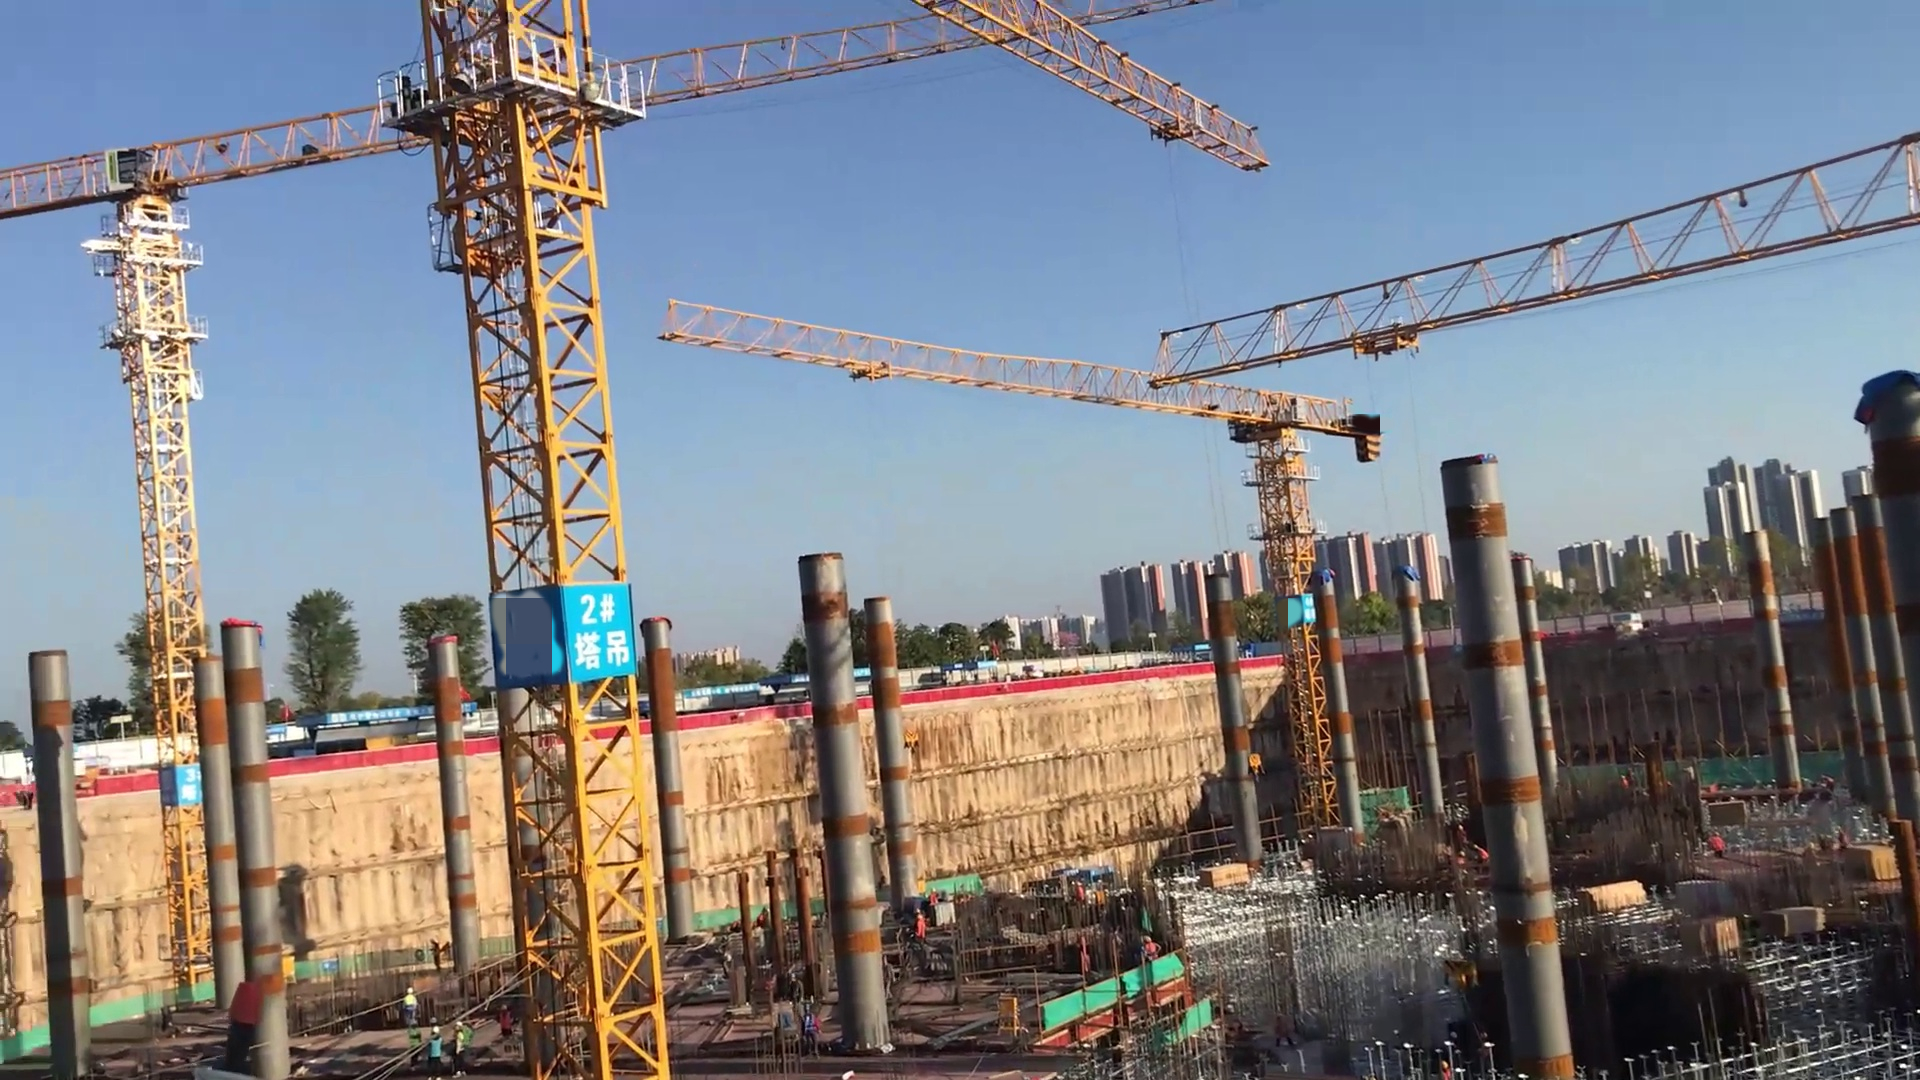helmet: (428, 1023, 443, 1038), (1440, 1057, 1450, 1073), (453, 1019, 463, 1035), (405, 985, 415, 997), (500, 1004, 509, 1014), (1143, 935, 1153, 946), (930, 887, 937, 896)
person: (801, 1002, 822, 1060), (405, 1016, 424, 1071), (452, 1017, 469, 1080), (428, 930, 447, 982), (1139, 933, 1169, 967), (428, 1021, 445, 1080), (499, 998, 515, 1052), (1470, 840, 1495, 874), (403, 985, 420, 1032), (1820, 773, 1843, 800), (1707, 829, 1728, 859), (1835, 821, 1853, 854), (1455, 821, 1469, 860), (914, 912, 927, 948), (1436, 1056, 1455, 1080), (929, 885, 941, 915), (1077, 879, 1088, 915), (1455, 852, 1467, 883), (1618, 769, 1630, 796)
vest: (802, 1009, 819, 1035), (430, 1035, 443, 1059), (1710, 835, 1725, 853), (915, 919, 927, 938)
